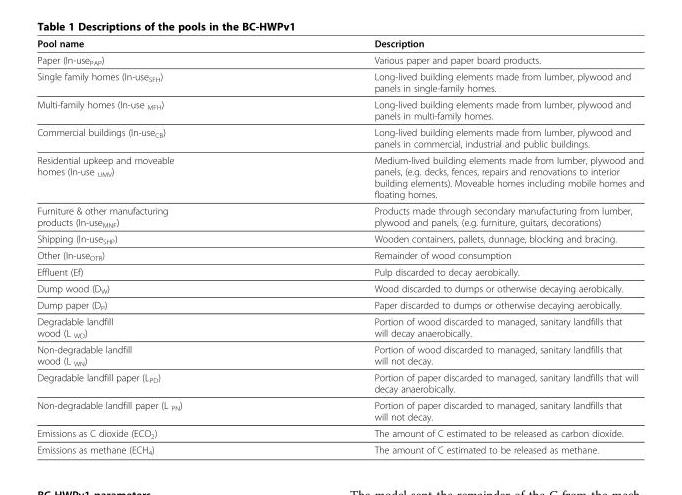table: (36, 37, 643, 455)
table column: (277, 37, 643, 455), (36, 37, 277, 455)
table column header: (36, 37, 643, 51)
table row: (36, 151, 643, 202), (36, 95, 643, 123), (36, 123, 643, 151), (36, 202, 643, 230), (36, 313, 643, 341), (36, 341, 643, 369), (36, 396, 643, 424), (36, 68, 643, 95), (36, 369, 643, 396), (36, 51, 643, 68), (36, 230, 643, 247), (36, 279, 643, 296), (36, 296, 643, 313), (36, 424, 643, 441), (36, 247, 643, 263), (36, 263, 643, 279), (36, 37, 643, 51), (36, 441, 643, 455)
